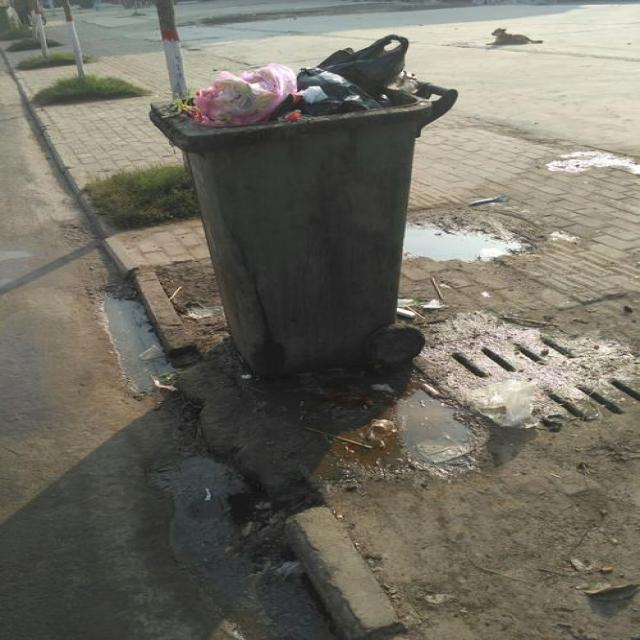overflow: (148, 33, 458, 372)
